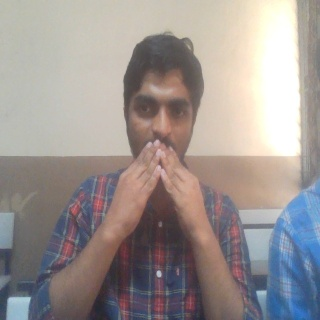Thank You: (101, 140, 212, 245)
